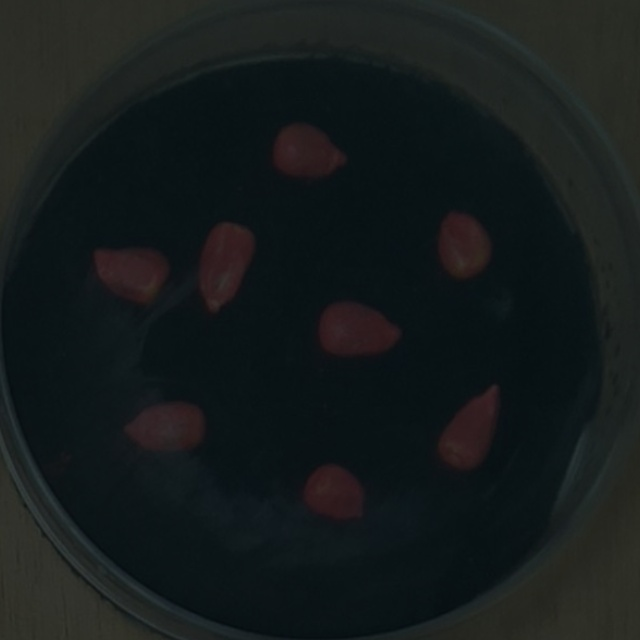Zea mays: (428, 375, 509, 479), (190, 211, 266, 321), (310, 291, 411, 364), (265, 113, 355, 189), (83, 239, 177, 311), (115, 394, 214, 461), (430, 202, 499, 289), (294, 455, 372, 528)
